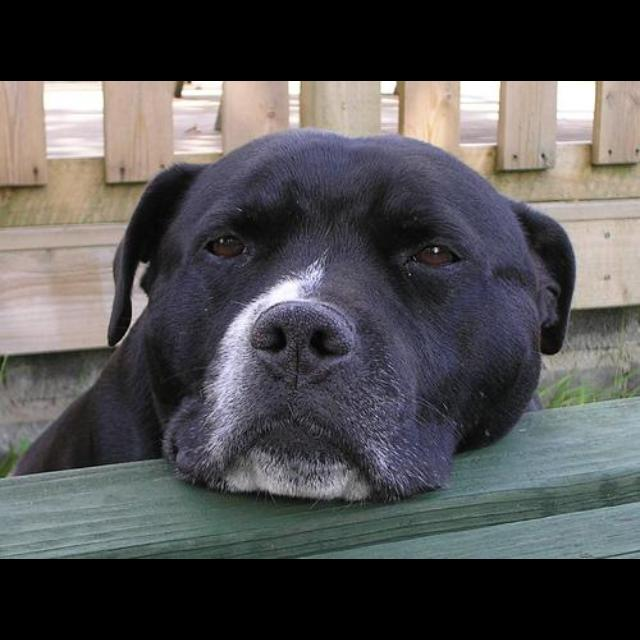staffford: (7, 127, 577, 505)
